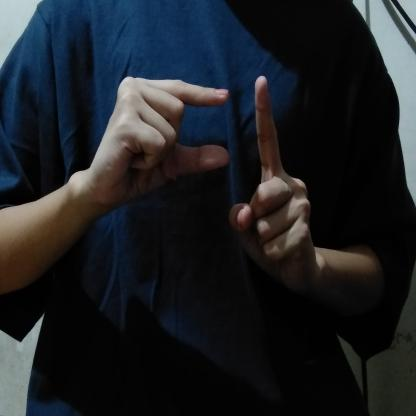daughter: (73, 64, 322, 302)
